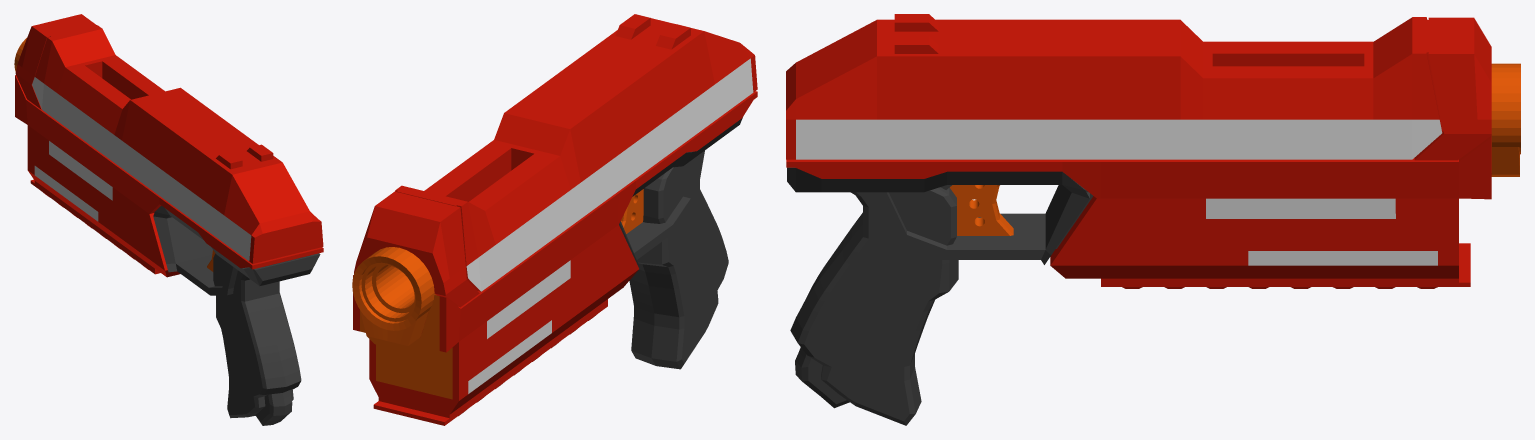
Rendered from Nerfgun.fbx.
3 views of the same model, side by side, from view 1: azimuth 30°, elevation 25°; view 2: azimuth 150°, elevation 25°; view 3: azimuth 270°, elevation 25° (orthographic). The views are drawn at different scales.
Parts seen in each view (by area): view 1: Body; view 2: Body; view 3: Body.
Part boxes in pixels (x1,y1,x2,y2): Body: [14, 14, 323, 425]; Body: [352, 14, 757, 425]; Body: [786, 14, 1520, 425].
Size of the model in its own units: 15.61 by 54.33 by 93.98.
